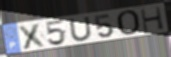5: (44, 19, 68, 47), (93, 13, 116, 39)
H: (139, 5, 166, 33)
O: (115, 9, 141, 37)
U: (68, 15, 94, 42)
X: (17, 22, 49, 51)
